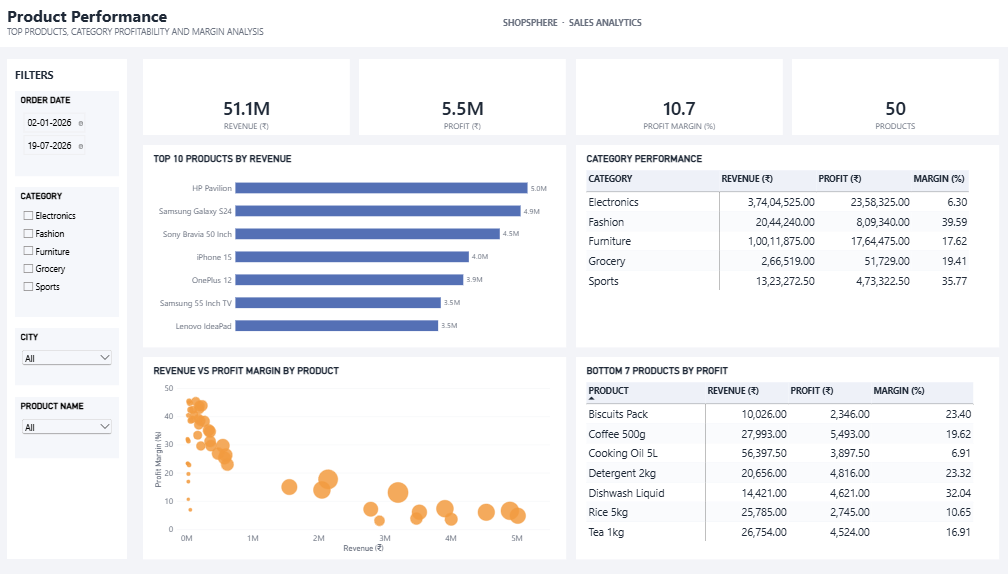

What the dashboard file says about the page in this screenshot:
{"tool":"powerbi","page":{"name":"Product Performance","canvas":[2560,1440],"ordinal":1},"visuals":[{"type":"barChart","title":"TOP 10 PRODUCTS BY REVENUE","fields":{"Category":["shopsphere products.product_name"],"Y":["Sum(shopsphere order_details.sales_amount)"]},"box":[380,364,1058,506],"z":0},{"type":"textbox","box":[0,0,2560,120],"z":1000},{"type":"textbox","box":[40,150,300,1250],"z":2000},{"type":"scatterChart","title":"REVENUE VS PROFIT MARGIN BY PRODUCT","fields":{"X":["shopsphere order_details.Revenue"],"Y":["shopsphere order_details.Profit Margin"],"Size":["Sum(shopsphere order_details.profit)"],"Category":["shopsphere products.product_name"]},"box":[380,894,1058,506],"z":3000},{"type":"pivotTable","title":"CATEGORY PERFORMANCE","fields":{"Rows":["shopsphere products.category"],"Values":["shopsphere order_details.Revenue","Sum(shopsphere order_details.profit)","shopsphere order_details.Profit Margin"]},"box":[1462,364,1058,506],"z":4000},{"type":"pivotTable","title":" BOTTOM 7 PRODUCTS BY PROFIT","fields":{"Values":["shopsphere order_details.Revenue","Sum(shopsphere order_details.profit)","shopsphere order_details.Profit Margin"],"Rows":["shopsphere products.product_name"]},"box":[1462,894,1058,506],"z":5000},{"type":"card","fields":{"Values":["Sum(shopsphere order_details.sales_amount)"]},"box":[380,150,517,190],"z":6000},{"type":"card","fields":{"Values":["Sum(shopsphere order_details.profit)"]},"box":[921,150,517,190],"z":7000},{"type":"card","fields":{"Values":["shopsphere order_details.Profit Margin"]},"box":[1462,150,517,190],"z":8000},{"type":"card","fields":{"Values":["Count(shopsphere products.product_id)"]},"box":[2003,150,517,190],"z":9000},{"type":"slicer","title":"ORDER DATE","fields":{"Values":["shopsphere orders.order_date"]},"box":[60,230,260,212.5],"z":10000},{"type":"slicer","title":"CATEGORY","fields":{"Values":["shopsphere products.category"]},"box":[60,470,260,325],"z":11000},{"type":"slicer","title":"CITY","fields":{"Values":["shopsphere customers.city"]},"box":[60,822.5,260,142.5],"z":12000},{"type":"slicer","title":"PRODUCT NAME","fields":{"Values":["shopsphere products.product_name"]},"box":[60,995,260,152.5],"z":13000},{"type":"textbox","box":[40,16,1500,96],"z":14000},{"type":"textbox","box":[1280,45,355,42.5],"z":15000},{"type":"textbox","box":[60,170,260,44],"z":16000}]}

Visuals, with their boxes in screenshot pixels (x1, y1, x2, y2), scaled from the page's 2560x1440 canvas onto the 1008x574 screenshot:
"TOP 10 PRODUCTS BY REVENUE" barChart: crop(150, 145, 566, 347)
textbox: crop(0, 0, 1007, 48)
textbox: crop(16, 60, 134, 558)
"REVENUE VS PROFIT MARGIN BY PRODUCT" scatterChart: crop(150, 356, 566, 558)
"CATEGORY PERFORMANCE" pivotTable: crop(576, 145, 992, 347)
" BOTTOM 7 PRODUCTS BY PROFIT" pivotTable: crop(576, 356, 992, 558)
card - Sum(shopsphere order_details.sales_amount): crop(150, 60, 353, 136)
card - Sum(shopsphere order_details.profit): crop(363, 60, 566, 136)
card - shopsphere order_details.Profit Margin: crop(576, 60, 779, 136)
card - Count(shopsphere products.product_id): crop(789, 60, 992, 136)
"ORDER DATE" slicer: crop(24, 92, 126, 176)
"CATEGORY" slicer: crop(24, 187, 126, 317)
"CITY" slicer: crop(24, 328, 126, 385)
"PRODUCT NAME" slicer: crop(24, 397, 126, 457)
textbox: crop(16, 6, 606, 45)
textbox: crop(504, 18, 644, 35)
textbox: crop(24, 68, 126, 85)
